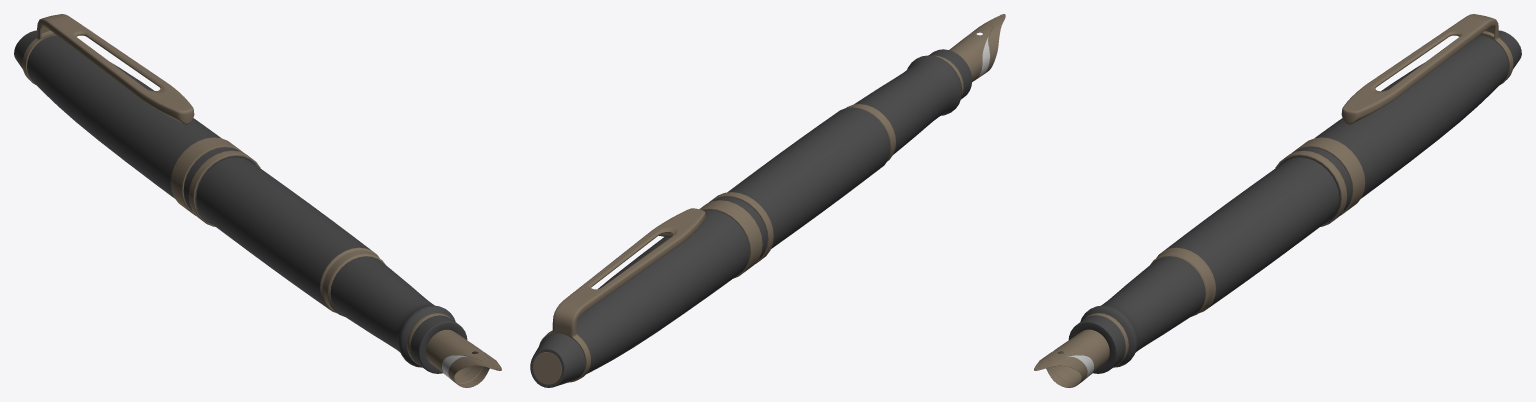
Rendered from Fountain_Pen.gltf.
The picture shows the model from 3 angles, left to right: view 1: azimuth 30°, elevation 25°; view 2: azimuth 150°, elevation 25°; view 3: azimuth 330°, elevation 25°; orthographic projection. The views are drawn at different scales.
Parts seen in each view (by area): view 1: Body_body_pen01, Top_Object03, Top_Object01, Body_body_pen_part_01; view 2: Body_body_pen01, Top_Object03, Top_Object01, Body_body_pen_part_01; view 3: Body_body_pen01, Top_Object03, Top_Object01, Body_body_pen_part_01.
Boxes of the visible parts, left/top/right/bottom form: Body_body_pen01: left=196, top=157, right=467, bottom=373; Top_Object03: left=14, top=30, right=256, bottom=224; Top_Object01: left=22, top=14, right=260, bottom=226; Body_body_pen_part_01: left=320, top=247, right=501, bottom=387; Body_body_pen01: left=727, top=49, right=972, bottom=248; Top_Object03: left=530, top=197, right=767, bottom=387; Top_Object01: left=533, top=192, right=773, bottom=384; Body_body_pen_part_01: left=846, top=14, right=1005, bottom=162; Body_body_pen01: left=1068, top=157, right=1339, bottom=373; Top_Object03: left=1279, top=30, right=1521, bottom=224; Top_Object01: left=1275, top=14, right=1513, bottom=226; Body_body_pen_part_01: left=1034, top=247, right=1215, bottom=387.
Bounding box in the file's own units: 1.23 × 1.43 × 14.3.
